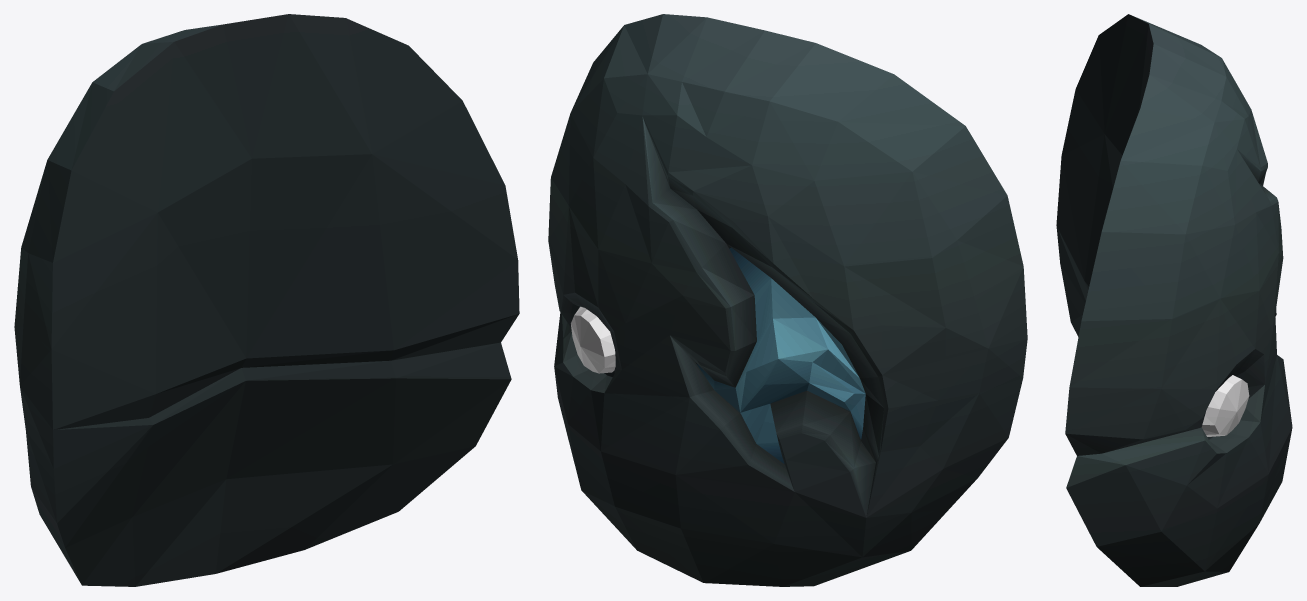
File: CharSkyKid_Mask_AP17Injured.glb
3 views of the same model, side by side, from view 1: azimuth 30°, elevation 25°; view 2: azimuth 150°, elevation 25°; view 3: azimuth 270°, elevation 25° (orthographic). The views are drawn at different scales.
Visible parts, largest first — view 1: CharSkyKid_Mask_AP17Injured; view 2: CharSkyKid_Mask_AP17Injured; view 3: CharSkyKid_Mask_AP17Injured.
Part boxes in pixels (x1,y1,x2,y2): CharSkyKid_Mask_AP17Injured: (14, 14, 519, 586); CharSkyKid_Mask_AP17Injured: (548, 14, 1027, 586); CharSkyKid_Mask_AP17Injured: (1056, 14, 1292, 586).
Bounding box in the file's own units: 2.15 × 2.48 × 1.04.
1 material, 1 textured.
